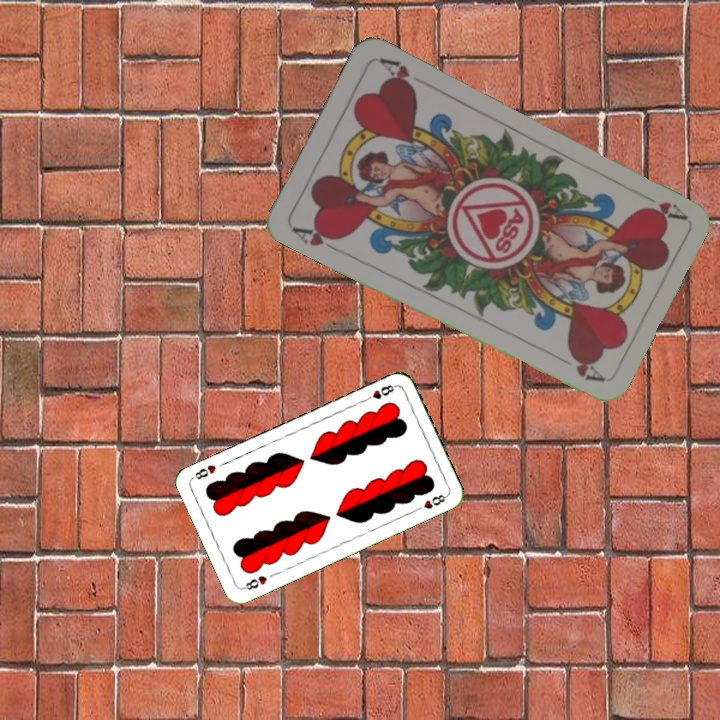H8: (360, 380, 399, 404), (239, 571, 270, 593)
HA: (634, 186, 687, 223), (287, 221, 343, 256)
